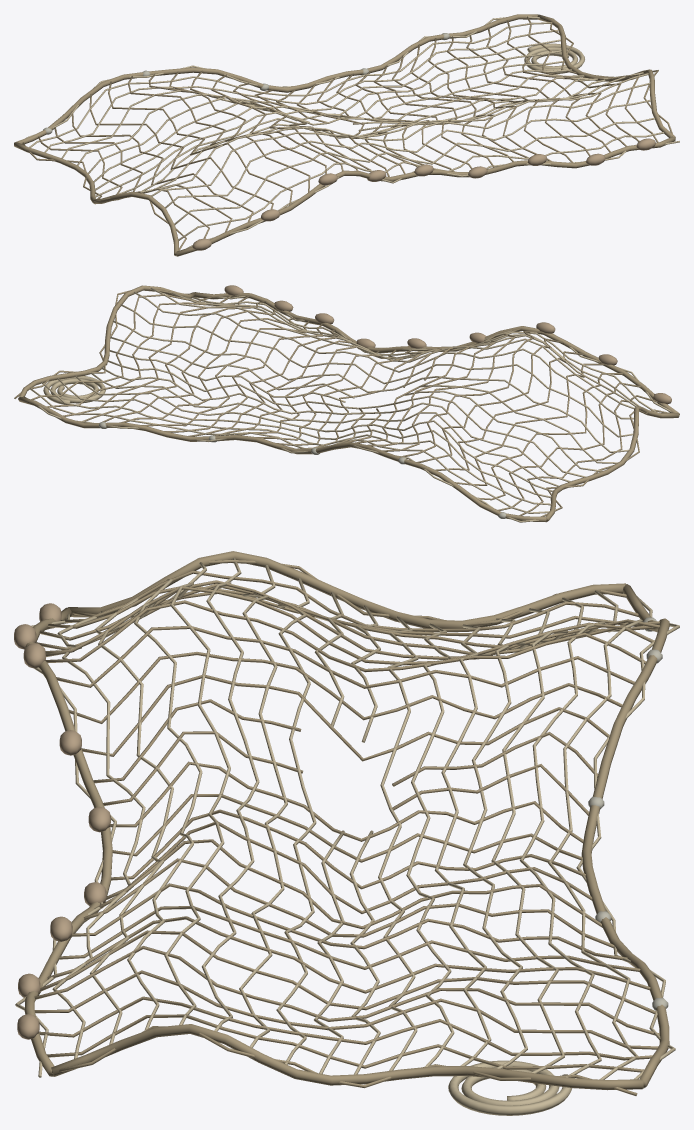
The model's file is SM_Net.fbx.
3 renders of one model, top to bottom at view 1: azimuth 30°, elevation 25°; view 2: azimuth 150°, elevation 25°; view 3: azimuth 270°, elevation 25°, orthographic. The views are drawn at different scales.
Parts seen in each view (by area): view 1: SM_Net; view 2: SM_Net; view 3: SM_Net.
Boxes of the visible parts, <box> form: SM_Net: <box>14,14,679,256</box>; SM_Net: <box>14,285,679,522</box>; SM_Net: <box>14,551,679,1115</box>.
Bounding box in the file's own units: 255 × 142 × 35.47.
